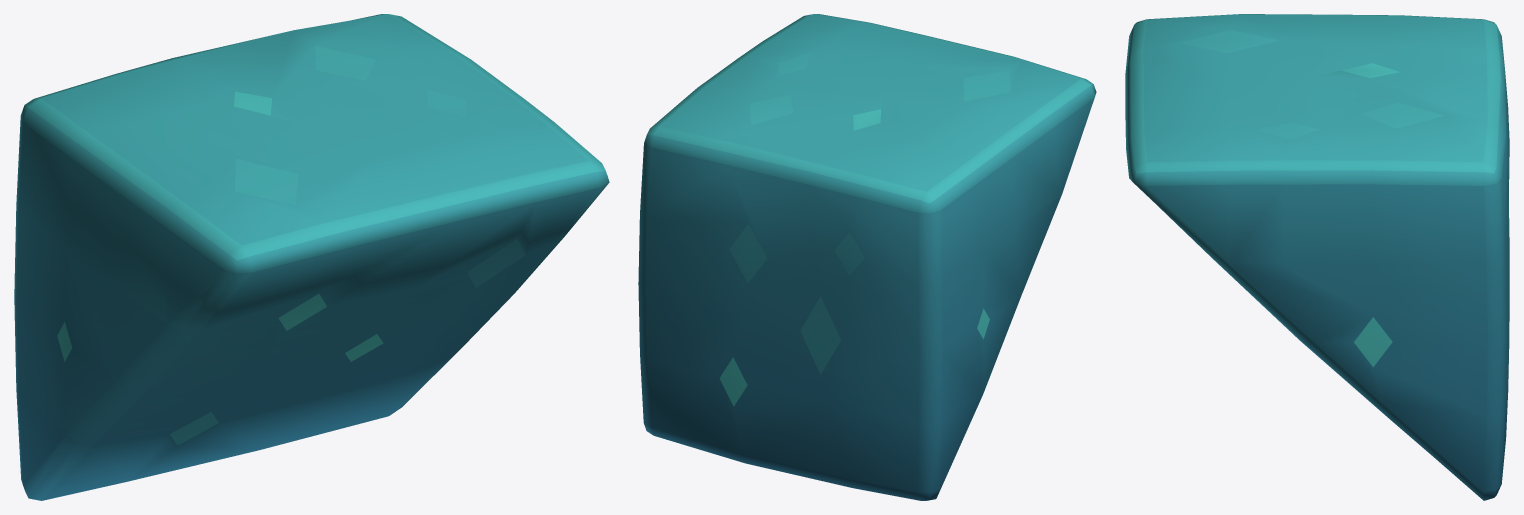
File: Ice_SlopeUnder.fbx
The picture shows the model from 3 angles, left to right: view 1: azimuth 30°, elevation 25°; view 2: azimuth 150°, elevation 25°; view 3: azimuth 270°, elevation 25°; orthographic projection. The views are drawn at different scales.
Visible parts, largest first — view 1: Ice_SlopeUnder_LOD0; view 2: Ice_SlopeUnder_LOD0; view 3: Ice_SlopeUnder_LOD0.
Part boxes in pixels (x1,y1,x2,y2): Ice_SlopeUnder_LOD0: [14, 14, 609, 500]; Ice_SlopeUnder_LOD0: [638, 14, 1096, 500]; Ice_SlopeUnder_LOD0: [1125, 14, 1509, 500].
Size of what is drawn, in the model's own units: 1.08 by 1.08 by 1.08.
